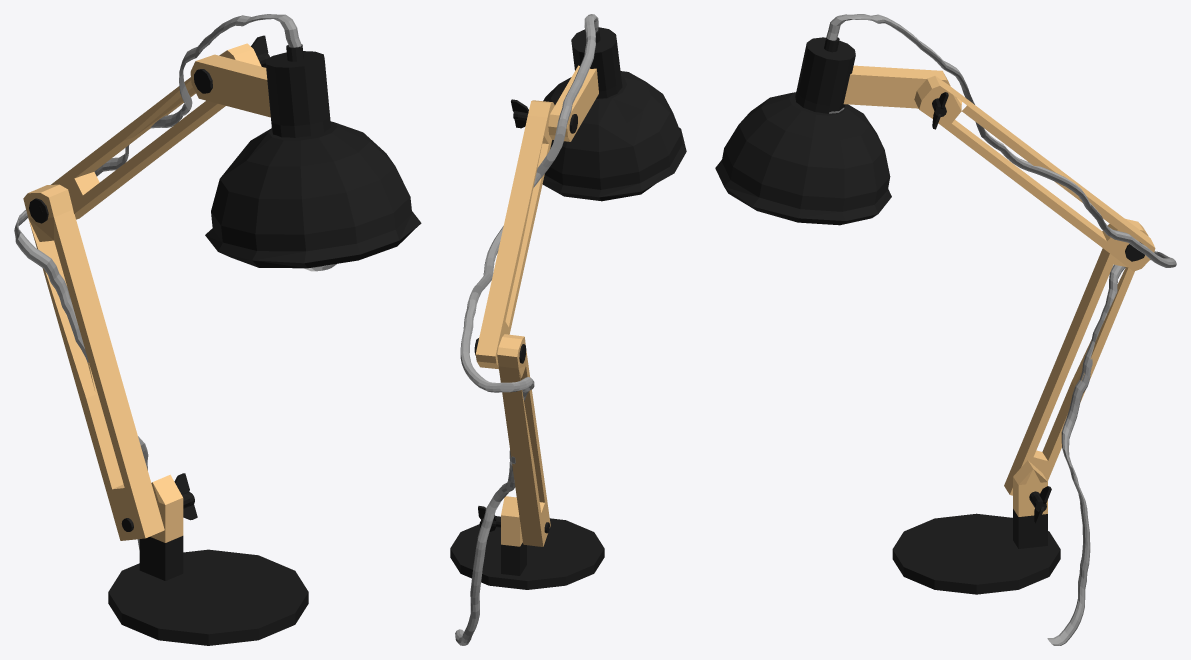
File: Desk Lamp.glb
3 renders of one model, left to right at view 1: azimuth 30°, elevation 25°; view 2: azimuth 150°, elevation 25°; view 3: azimuth 270°, elevation 25°, orthographic. The views are drawn at different scales.
Visible parts, largest first — view 1: group289902031, group1667276076, group1982449423, group778822713, group1234694877, group67639701, group934490515; view 2: group289902031, group1667276076, group778822713, group67639701, group1982449423, group1234694877, group934490515; view 3: group289902031, group1667276076, group778822713, group67639701, group1982449423, group1234694877, group934490515.
Boxes of the visible parts, <box> form: group289902031: <box>205,121,421,268</box>; group1667276076: <box>108,474,308,645</box>; group1982449423: <box>23,184,164,540</box>; group778822713: <box>51,43,261,219</box>; group1234694877: <box>265,51,330,137</box>; group67639701: <box>14,14,301,549</box>; group934490515: <box>190,54,270,117</box>; group289902031: <box>542,71,686,201</box>; group1667276076: <box>450,496,604,589</box>; group778822713: <box>475,100,554,369</box>; group67639701: <box>455,14,598,645</box>; group1982449423: <box>497,334,550,546</box>; group1234694877: <box>571,27,622,99</box>; group934490515: <box>548,65,598,141</box>; group289902031: <box>715,92,891,225</box>; group1667276076: <box>892,460,1060,594</box>; group778822713: <box>914,76,1155,271</box>; group67639701: <box>826,14,1176,645</box>; group1982449423: <box>1004,218,1148,495</box>; group1234694877: <box>795,37,855,113</box>; group934490515: <box>843,65,950,108</box>.
Bounding box in the file's own units: 0.3454 × 1.25 × 0.851.
